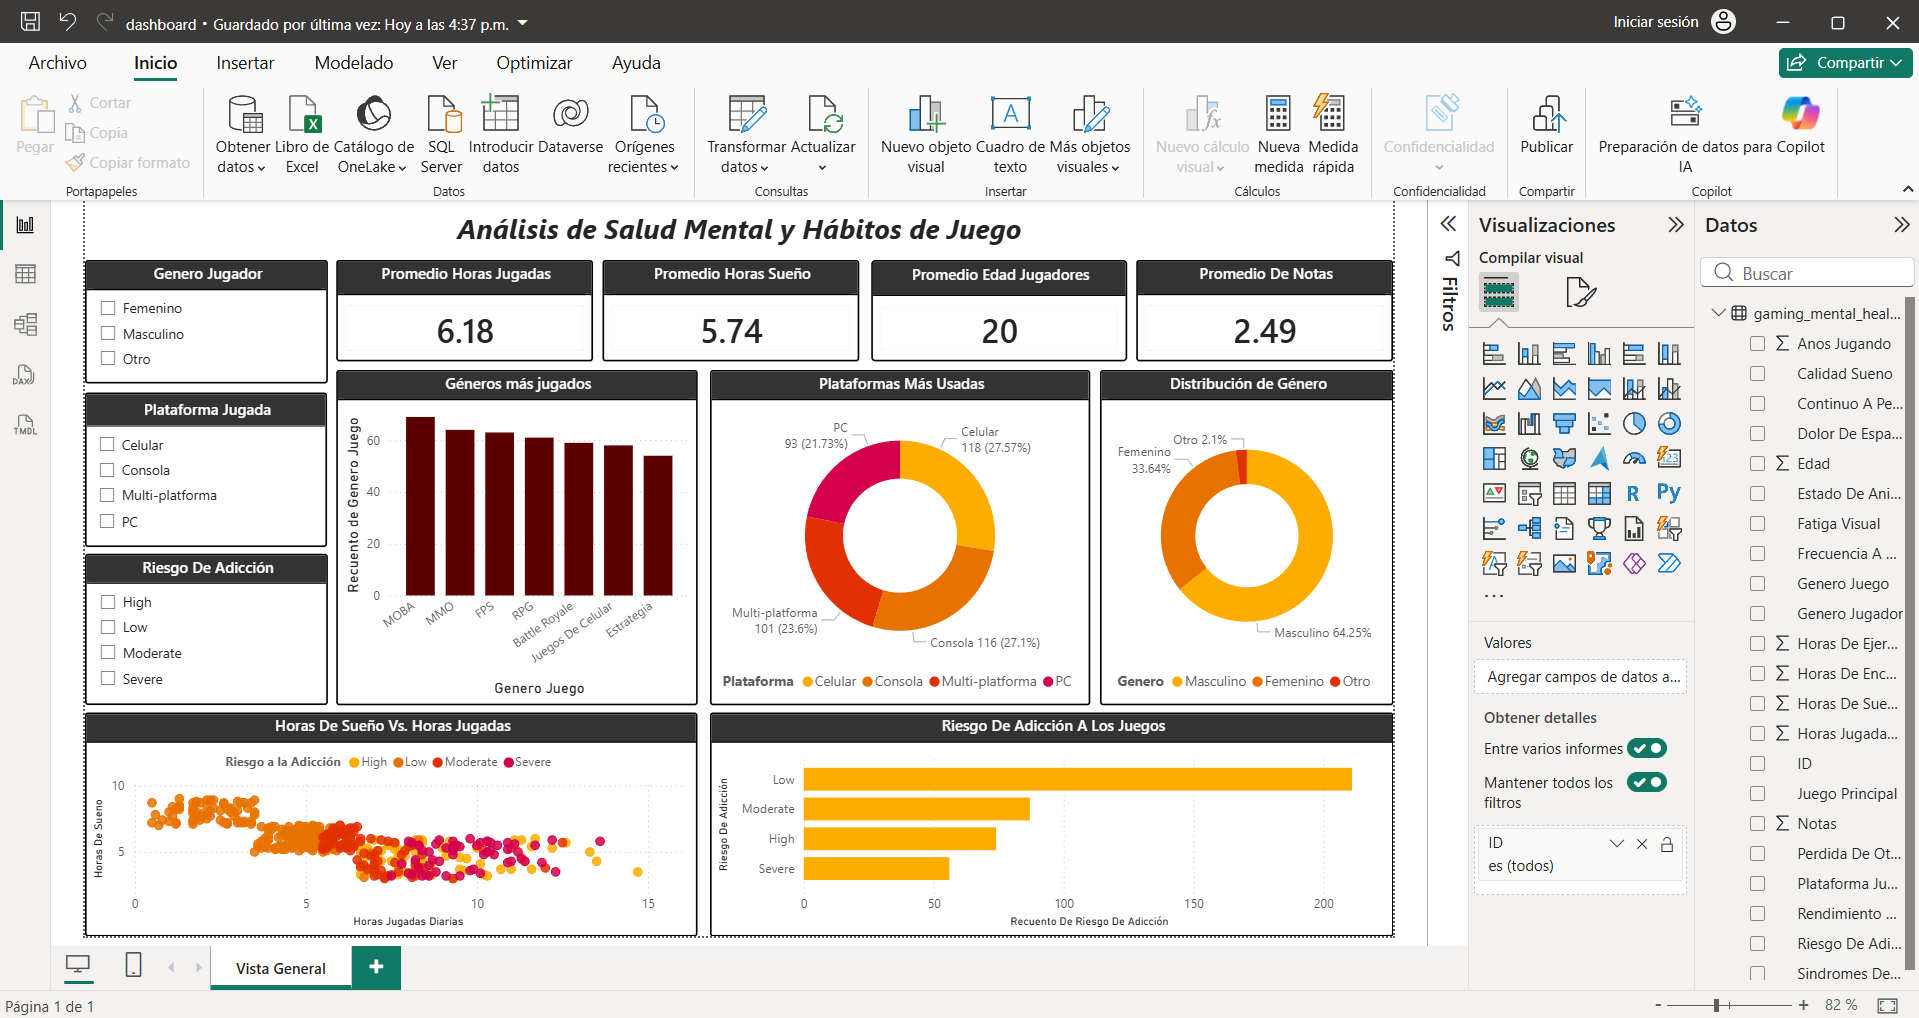

Layout of this report page (visuals, bound fields, positions):
{"tool":"powerbi","page":{"name":"Vista General","canvas":[1280,720],"ordinal":0},"visuals":[{"type":"textbox","box":[0,5.1,1280.3,46.2],"z":0},{"type":"cardVisual","title":"Promedio Horas Jugadas","fields":{"Data":["Avg(gaming_mental_health_cleaning.Horas Jugadas Diarias)"]},"box":[245.6,58.9,251.1,98.9],"z":1000},{"type":"cardVisual","title":"Promedio Horas Sueño","fields":{"Data":["Avg(gaming_mental_health_cleaning.Horas De Sueno)"]},"box":[506.7,58.9,251.1,98.9],"z":2000},{"type":"cardVisual","title":"Promedio Edad Jugadores","fields":{"Data":["Avg(gaming_mental_health_cleaning.Edad)"]},"box":[768.9,58.9,250,98.9],"z":3000},{"type":"cardVisual","title":"Promedio De Notas","fields":{"Data":["Avg(gaming_mental_health_cleaning.Notas)"]},"box":[1028.9,58.9,251.1,98.9],"z":4000},{"type":"columnChart","title":"Géneros más jugados","fields":{"Category":["gaming_mental_health_cleaning.Genero Juego"],"Y":["CountNonNull(gaming_mental_health_cleaning.Genero Juego)"]},"box":[245.9,166,353.3,328],"z":5000},{"type":"donutChart","title":"Plataformas Más Usadas","fields":{"Category":["gaming_mental_health_cleaning.Plataforma Jugada"],"Y":["CountNonNull(gaming_mental_health_cleaning.Plataforma Jugada)"]},"box":[611.4,166.3,371.7,327.7],"z":6000},{"type":"clusteredBarChart","title":"Riesgo De Adicción A Los Juegos","fields":{"Category":["gaming_mental_health_cleaning.Riesgo De Adiccion A Los Juegos"],"Y":["CountNonNull(gaming_mental_health_cleaning.Riesgo De Adiccion A Los Juegos)"]},"box":[611.4,501.4,668.9,218.9],"z":7000},{"type":"donutChart","title":"Distribución de Género","fields":{"Y":["CountNonNull(gaming_mental_health_cleaning.Genero Jugador)"],"Category":["gaming_mental_health_cleaning.Genero Jugador"]},"box":[992.9,166.3,287.4,327.7],"z":8000},{"type":"slicer","title":"Genero Jugador","fields":{"Values":["gaming_mental_health_cleaning.Genero Jugador"]},"box":[0,58.9,237.8,121.1],"z":9000},{"type":"slicer","title":"Plataforma Jugada","fields":{"Values":["gaming_mental_health_cleaning.Plataforma Jugada"]},"box":[0,187.8,236.7,151.1],"z":10000},{"type":"slicer","title":"Riesgo De Adicción","fields":{"Values":["gaming_mental_health_cleaning.Riesgo De Adiccion A Los Juegos"]},"box":[0,346.7,237.8,147.8],"z":11000},{"type":"scatterChart","title":"Horas De Sueño Vs. Horas Jugadas","fields":{"X":["gaming_mental_health_cleaning.Horas Jugadas Diarias"],"Y":["gaming_mental_health_cleaning.Horas De Sueno"],"Series":["gaming_mental_health_cleaning.Riesgo De Adiccion A Los Juegos"]},"box":[0,501.4,599.2,218.9],"z":12000}]}

Visuals, with their boxes on the page's 1280x720 design canvas (x1, y1, x2, y2). These are canvas units, not pixel positions in the 1919x1018 screenshot, which may show the page scaled, cropped or inside an application window:
textbox: region(0, 5, 1280, 51)
"Promedio Horas Jugadas" cardVisual: region(246, 59, 497, 158)
"Promedio Horas Sueño" cardVisual: region(507, 59, 758, 158)
"Promedio Edad Jugadores" cardVisual: region(769, 59, 1019, 158)
"Promedio De Notas" cardVisual: region(1029, 59, 1280, 158)
"Géneros más jugados" columnChart: region(246, 166, 599, 494)
"Plataformas Más Usadas" donutChart: region(611, 166, 983, 494)
"Riesgo De Adicción A Los Juegos" clusteredBarChart: region(611, 501, 1280, 720)
"Distribución de Género" donutChart: region(993, 166, 1280, 494)
"Genero Jugador" slicer: region(0, 59, 238, 180)
"Plataforma Jugada" slicer: region(0, 188, 237, 339)
"Riesgo De Adicción" slicer: region(0, 347, 238, 494)
"Horas De Sueño Vs. Horas Jugadas" scatterChart: region(0, 501, 599, 720)
